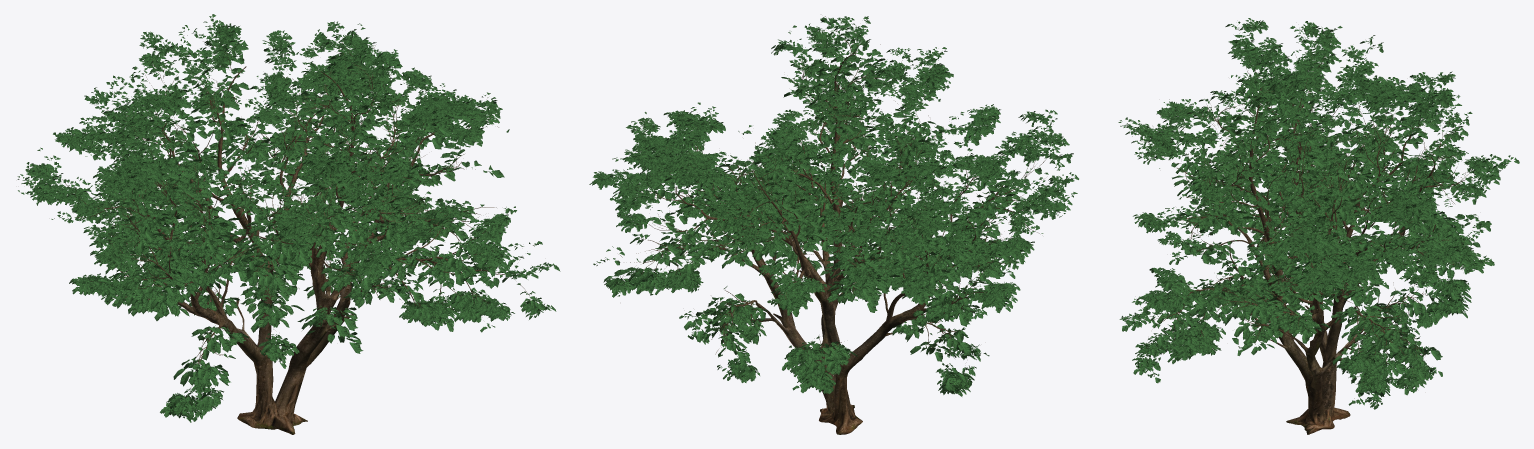
File: village-pbr-jacaranda_tree.glb
3 views of the same model, side by side, from view 1: azimuth 30°, elevation 25°; view 2: azimuth 150°, elevation 25°; view 3: azimuth 270°, elevation 25° (orthographic). The views are drawn at different scales.
Visible parts, largest first — view 1: jacaranda_tree_LOD0; view 2: jacaranda_tree_LOD0; view 3: jacaranda_tree_LOD0.
Part boxes in pixels (x1,y1,x2,y2): jacaranda_tree_LOD0: [17, 14, 560, 434]; jacaranda_tree_LOD0: [589, 16, 1078, 434]; jacaranda_tree_LOD0: [1118, 18, 1519, 434].
Bounding box in the file's own units: 24.34 × 19.44 × 19.09.
Materials: 3 (3 with a texture image).
